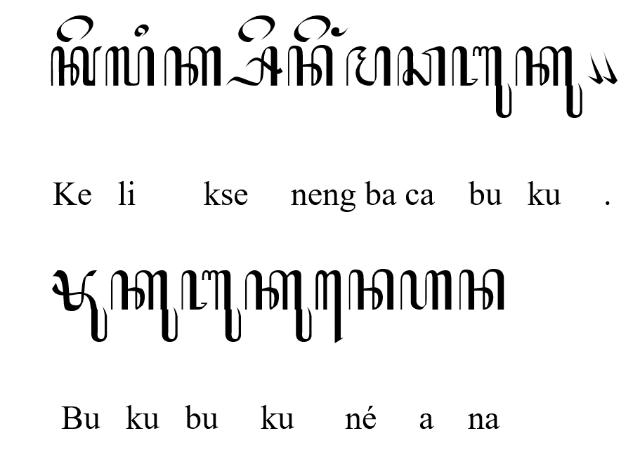Bu: (52, 268, 108, 344)
K: (50, 46, 102, 86)
_s: (225, 46, 283, 86)
bu: (180, 269, 242, 343), (451, 46, 513, 118)
c: (397, 46, 445, 86)
e: (293, 14, 331, 44), (56, 14, 94, 42), (238, 14, 276, 42)
e1: (315, 270, 343, 344)
h: (400, 270, 452, 310)
i: (134, 23, 150, 37)
k: (164, 45, 222, 87)
kom: (601, 53, 619, 85), (588, 52, 604, 84)
ku: (110, 269, 178, 343), (515, 46, 583, 118), (244, 270, 312, 342)
l: (105, 45, 155, 87)
m: (344, 45, 392, 87)
n: (458, 268, 506, 310), (287, 43, 333, 86), (348, 269, 394, 311)
ng: (330, 26, 348, 38)
